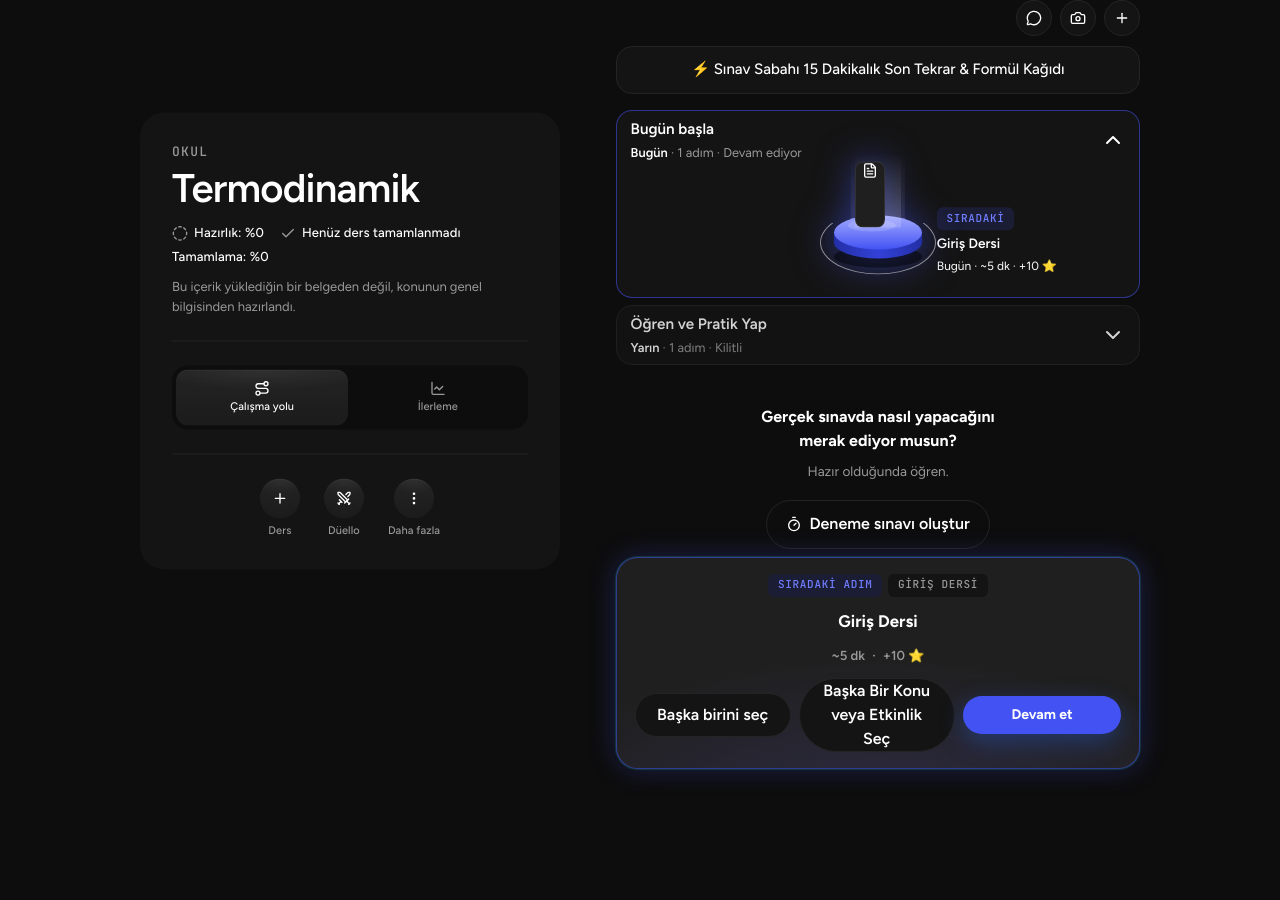
exam prep home path (Astra düzeni, 29 Eylül 2026) › lists source documents under Kaynaklar in the options menu
Click the button with aria-label "Hazırlık seçenekleri" at (414, 508), box top-left (388, 478), bottom-right (440, 538)
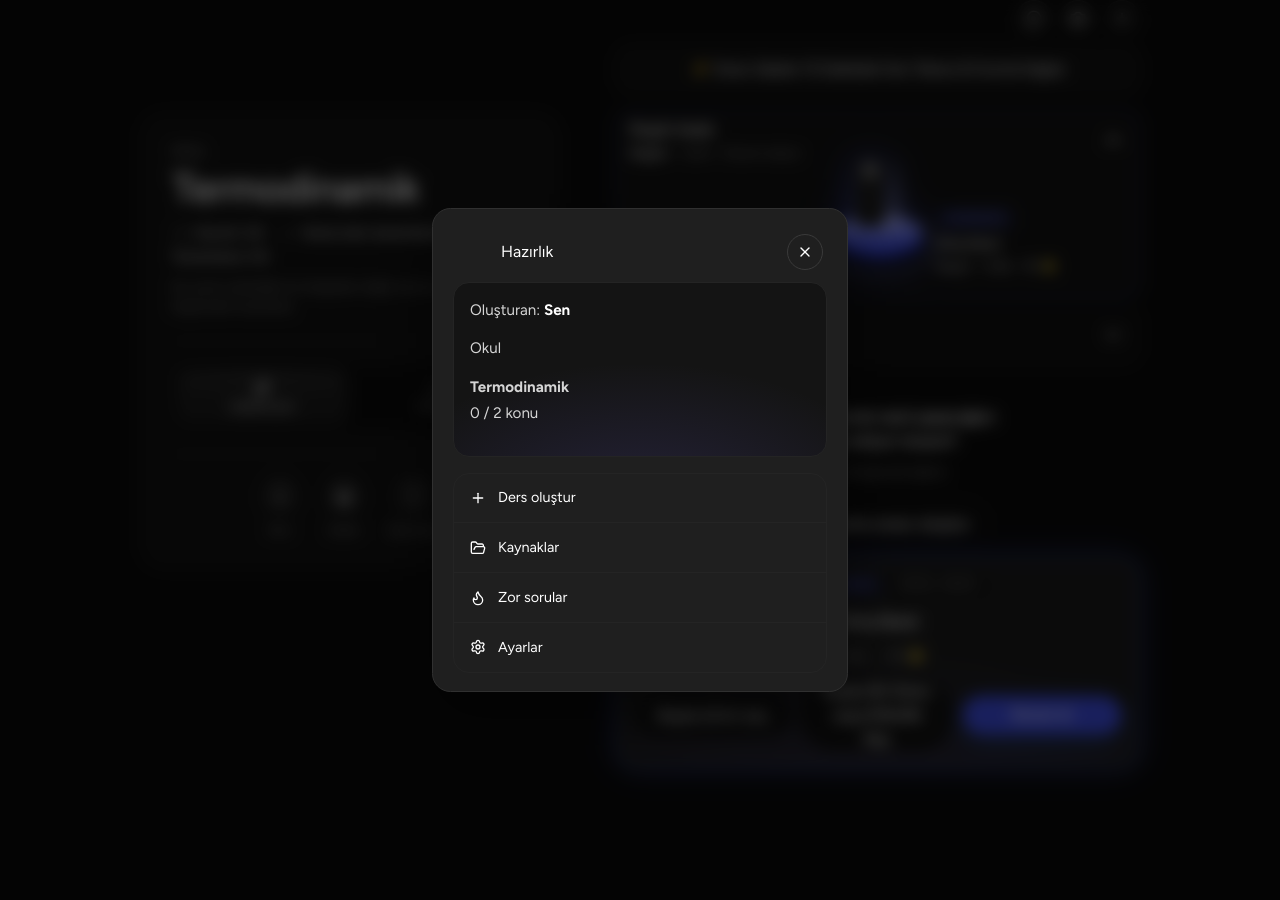
Click the button "Kaynaklar" at (529, 547), box top-left (454, 523), bottom-right (826, 572)
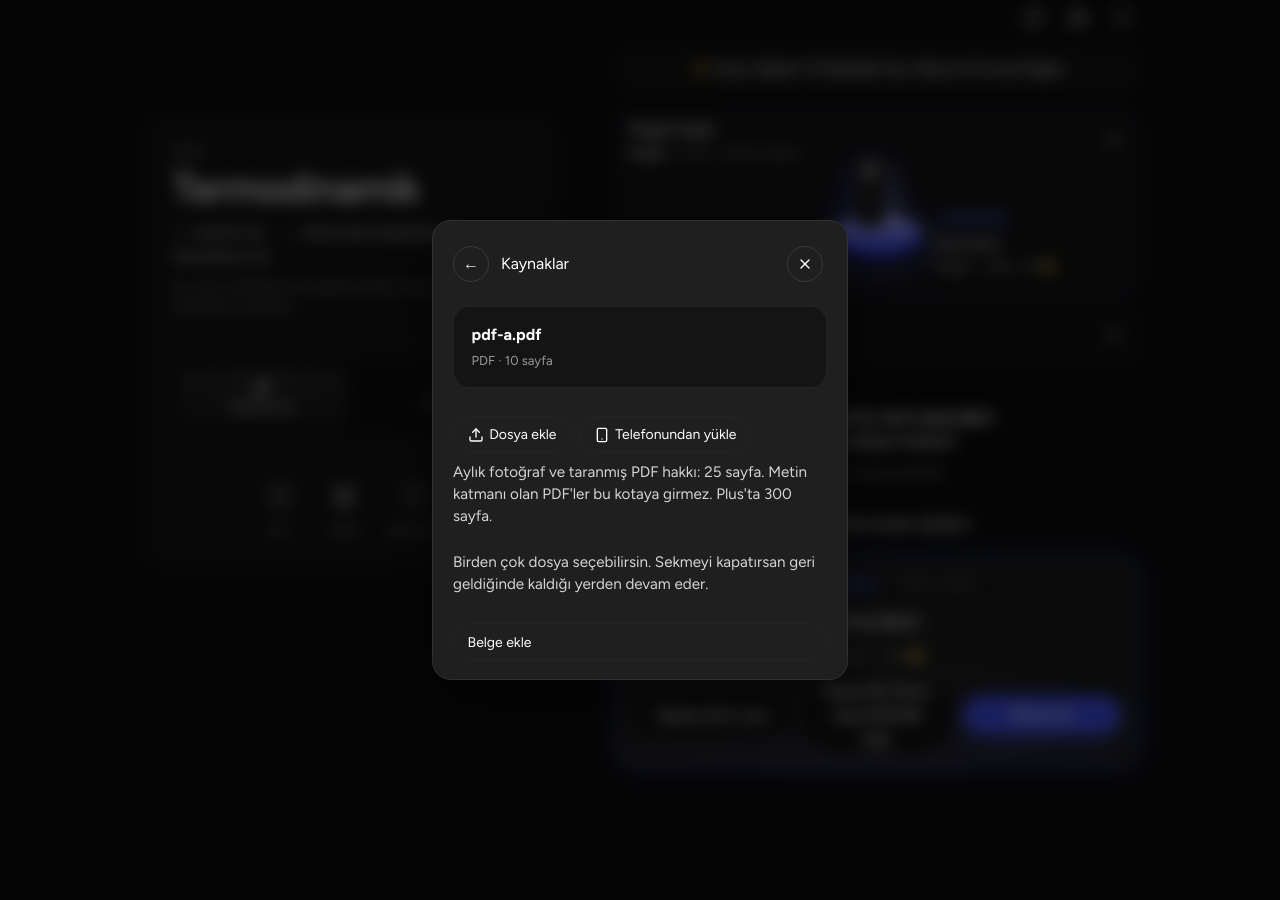
Now the text "PDF · 10 sayfa" is shown, box top-left (472, 353), bottom-right (553, 368)
